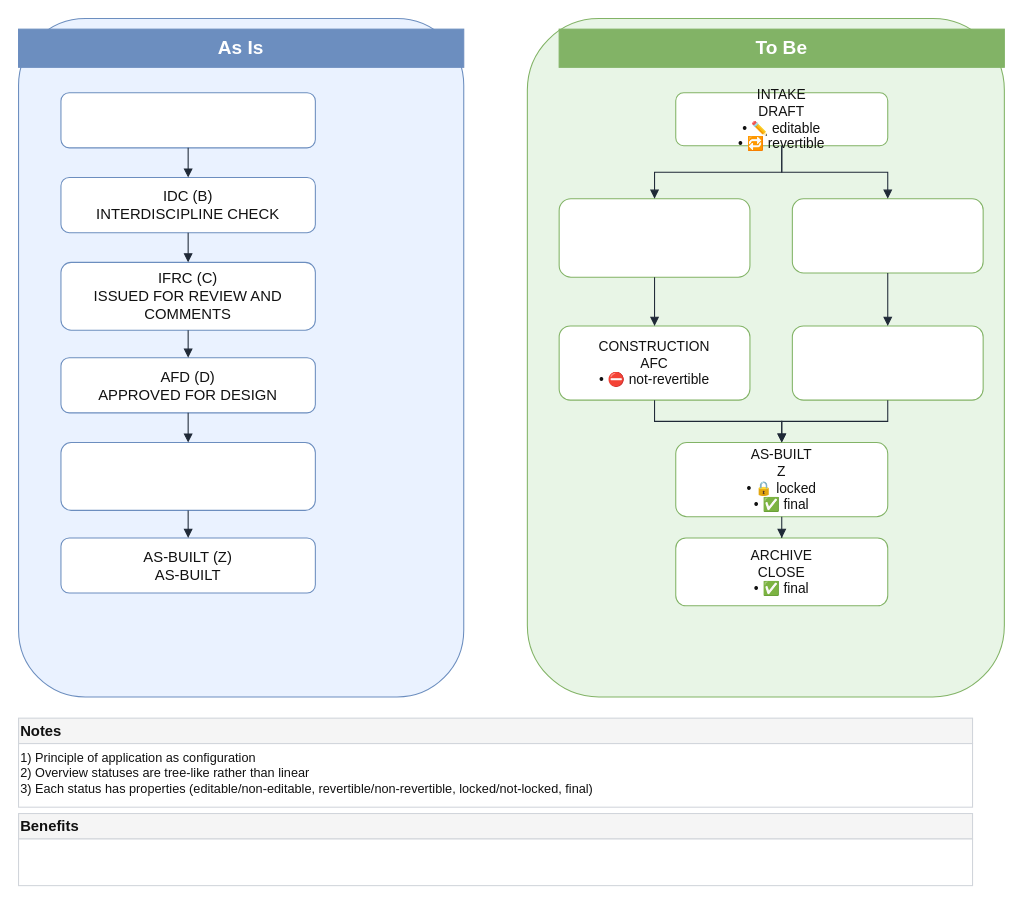
This 1023x904 diagram has some shape labels left out. Each missing label, with the box of its shape:
1) Configurable 2) Application can be used outside of engineering-only domains: (17, 838, 973, 886)
AFC (E) APPROVED FOR CONSTRUCTION: (60, 441, 315, 510)
DESIGN APPROVAL AFD • 🔁 revertible: (791, 198, 983, 273)
INDESIGN (A) IN-DESIGN: (60, 92, 315, 148)
ISSUED FOR SITE • ⛔ not-revertible: (791, 325, 983, 400)
REVIEW IDC / IFRC • ✏️ editable • 🔁 revertible: (558, 198, 750, 277)
